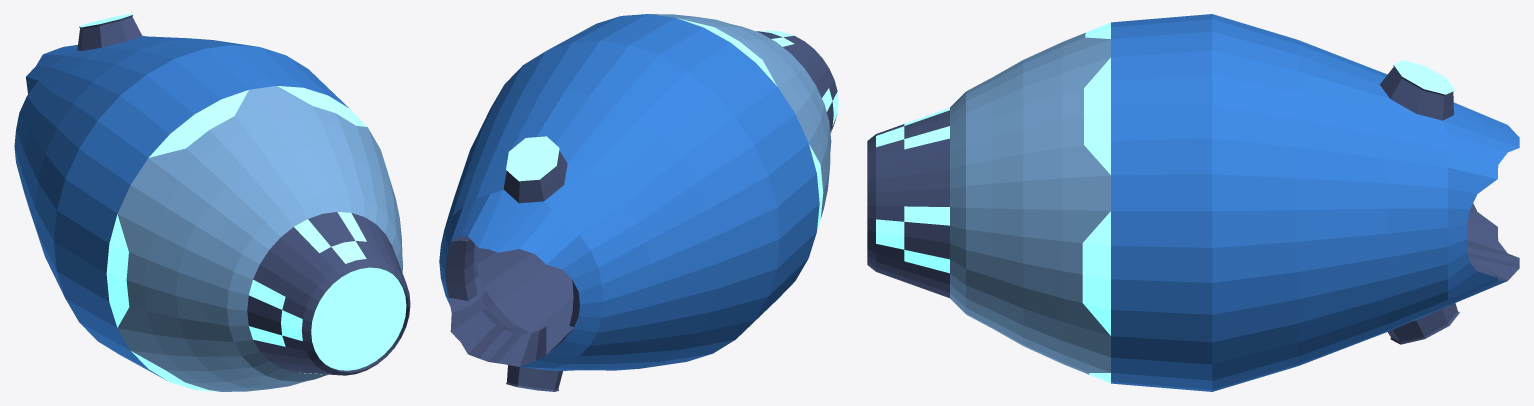
File: MegamanBusterV3(MegamanX).fbx
3 renders of one model, left to right at view 1: azimuth 30°, elevation 25°; view 2: azimuth 150°, elevation 25°; view 3: azimuth 270°, elevation 25°, orthographic. The views are drawn at different scales.
Parts seen in each view (by area): view 1: Cilindro; view 2: Cilindro; view 3: Cilindro.
Boxes of the visible parts, <box> form: Cilindro: <box>14,14,410,391</box>; Cilindro: <box>439,14,838,391</box>; Cilindro: <box>867,14,1519,391</box>.
Bounding box in the file's own units: 271 × 271 × 467.
